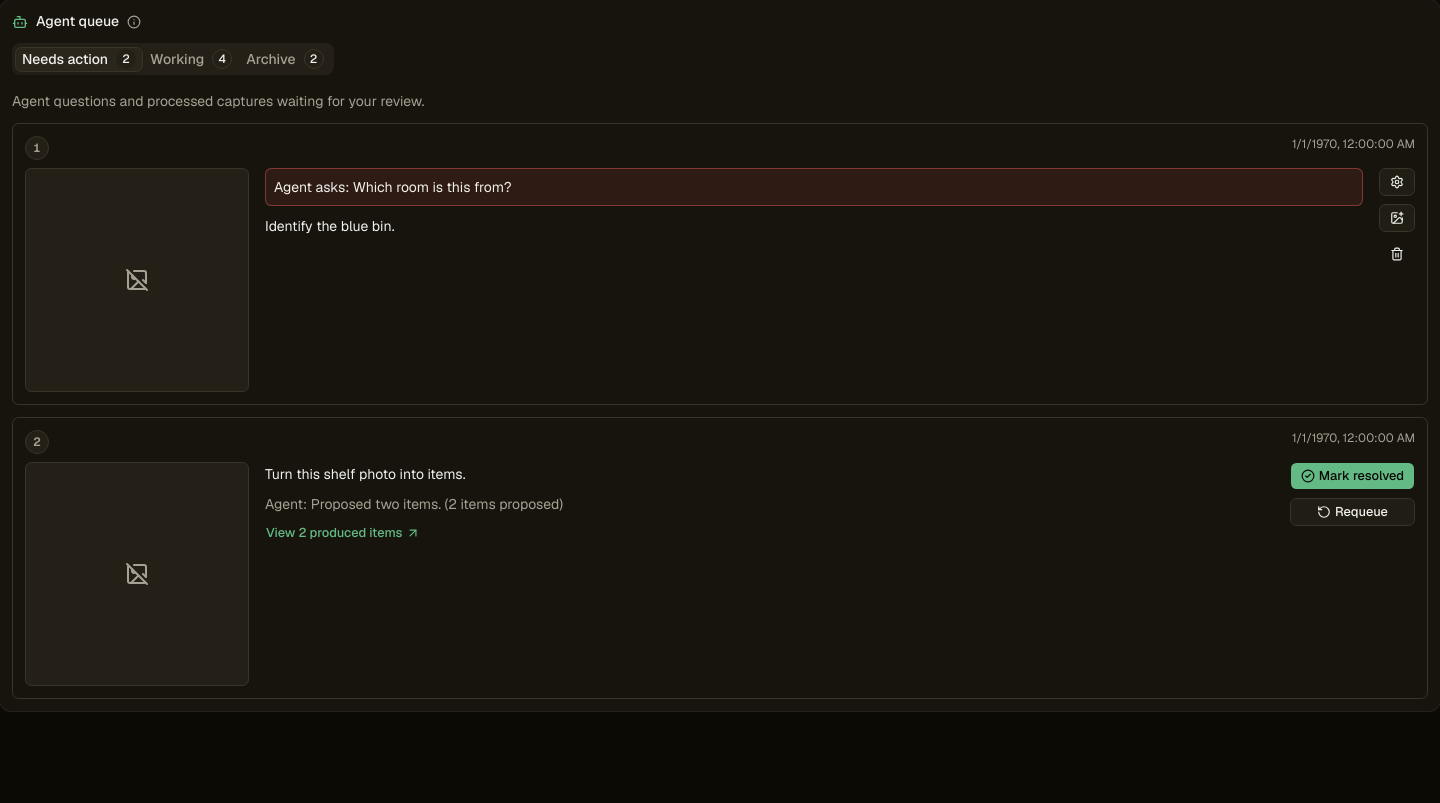
IngestionQueueList tabs view › renders live per-file jobs: spinner tiles, the counted badge, and Retry
Click the tab "Working 4".
click(191, 59)  # box [143,47,239,72]
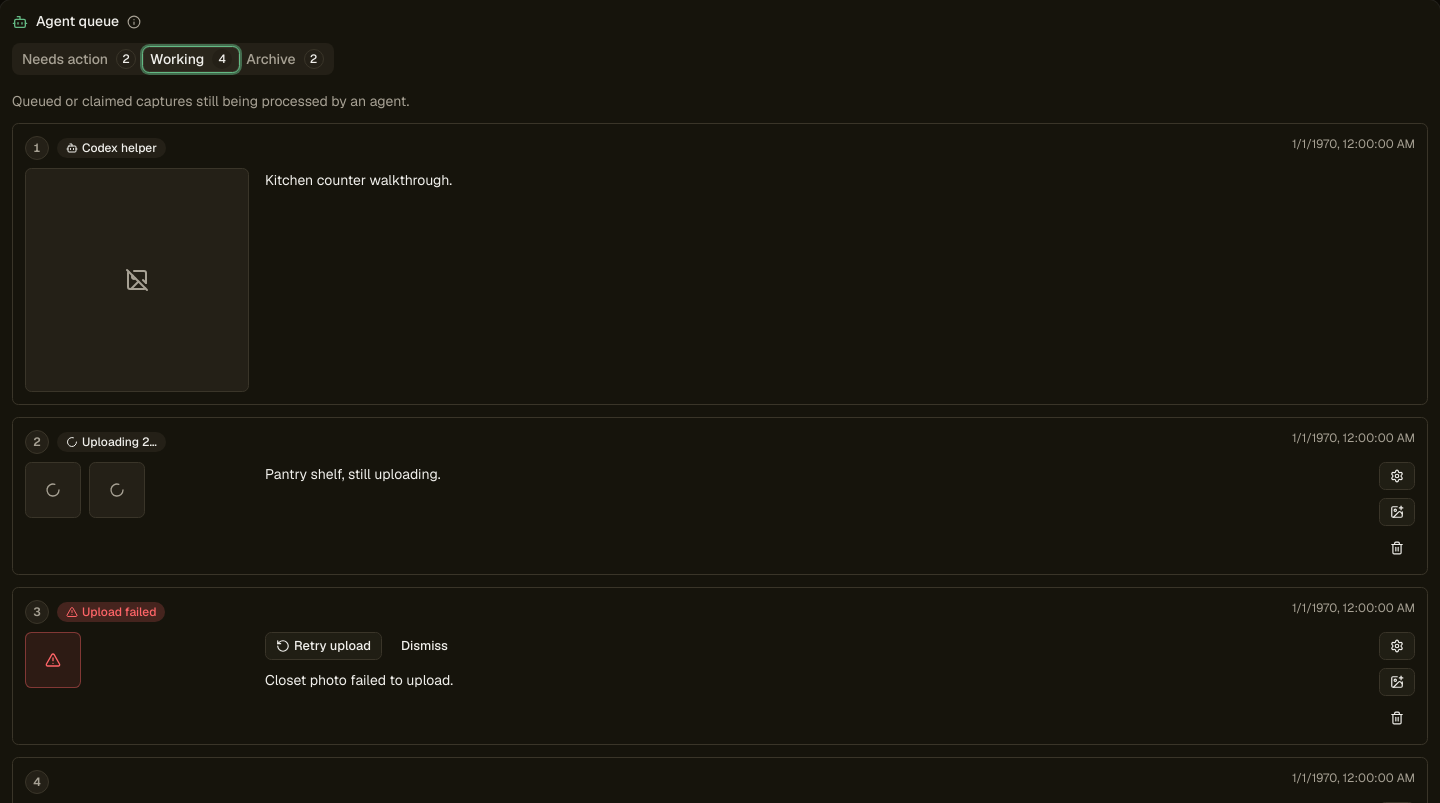
Expected: the text "Uploading 2…" is shown, [57,432,166,452]
Expected: the element named "Uploading a.jpg" is shown, [25,462,81,518]
Expected: the element named "Uploading b.jpg" is shown, [89,462,145,518]
